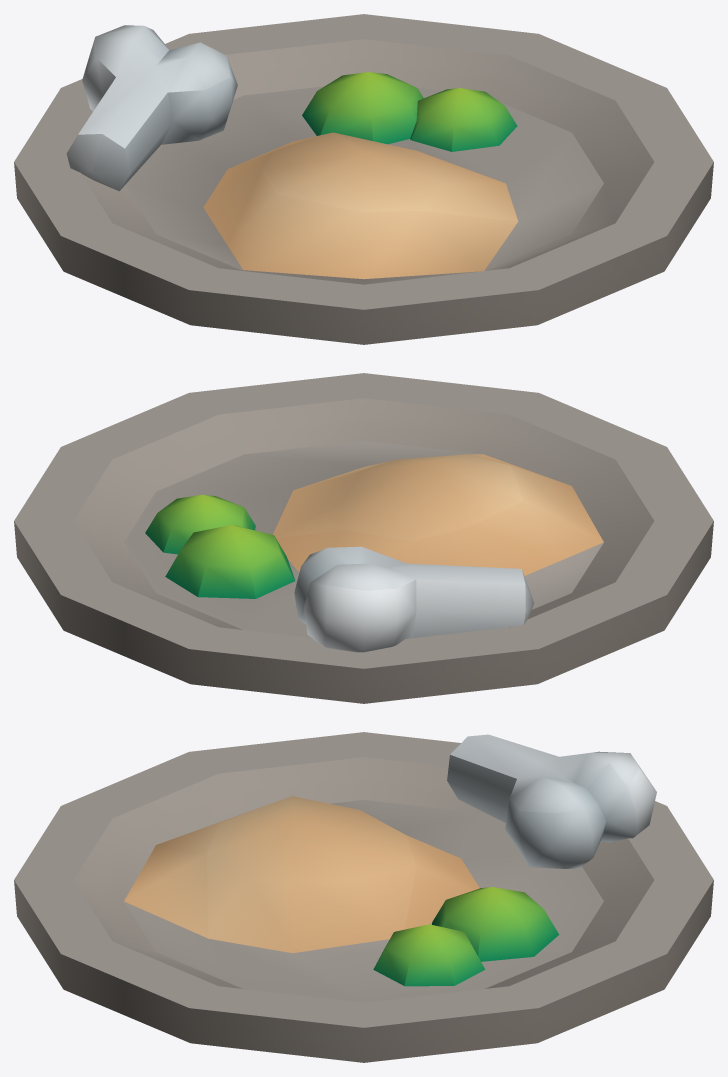
Rendered from plate_food_B.gltf.
The picture shows the model from 3 angles, top to bottom: view 1: azimuth 30°, elevation 25°; view 2: azimuth 150°, elevation 25°; view 3: azimuth 270°, elevation 25°; orthographic projection.
Parts seen in each view (by area): view 1: plate_food_B; view 2: plate_food_B; view 3: plate_food_B.
Boxes of the visible parts, x1,y1,x2,y2 form: plate_food_B: (14,14,713,344); plate_food_B: (14,373,713,703); plate_food_B: (14,732,713,1062).
Bounding box in the file's own units: 0.9706 × 0.2361 × 0.9706.
1 material, 1 textured.
